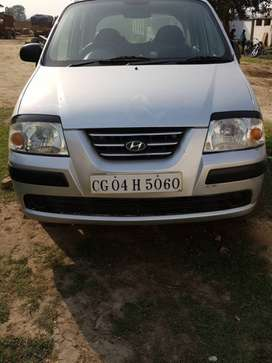CG04H5060: (90, 171, 181, 194)
